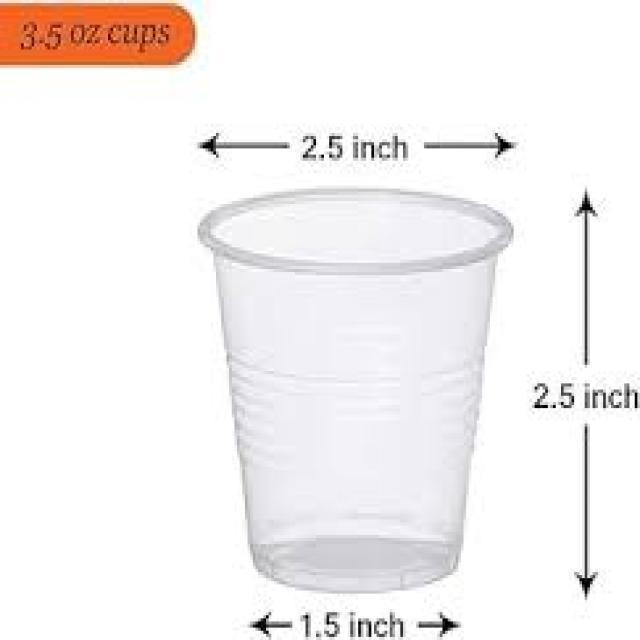cup: (199, 164, 518, 616)
